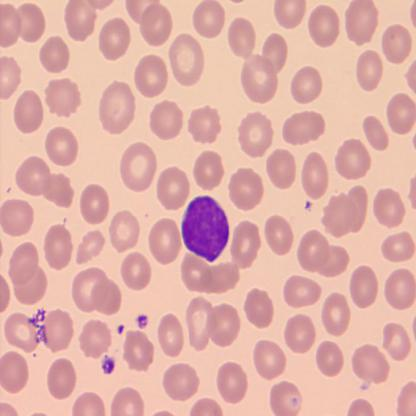Lymphocyte: (180, 194, 230, 262)
